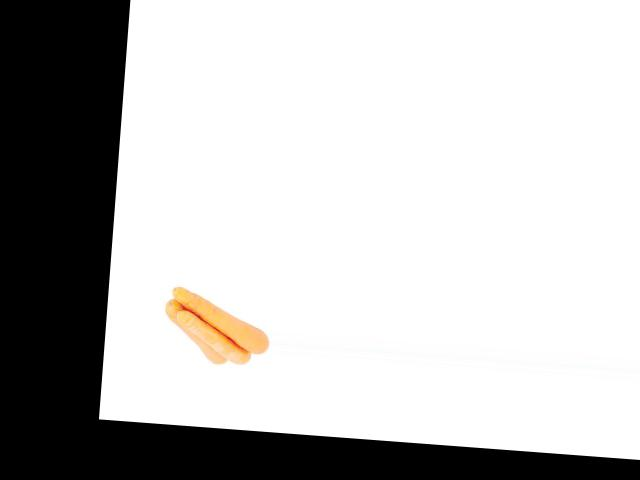carrot: (171, 288, 273, 355)
